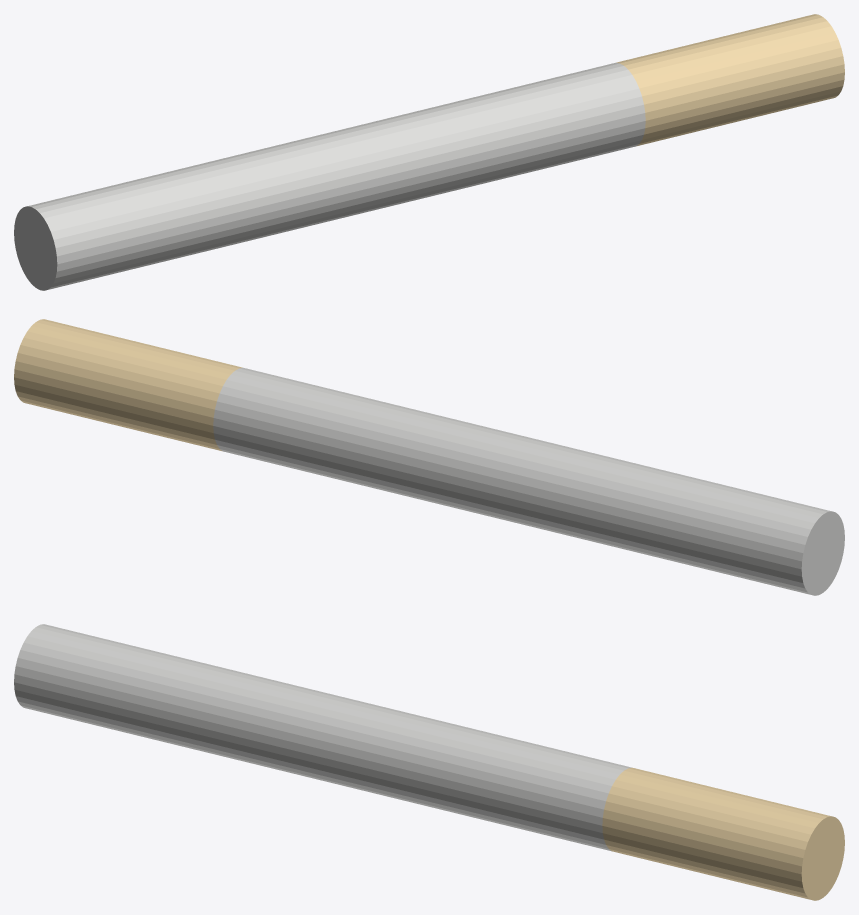
3 views of the same model, one above another, from view 1: azimuth 30°, elevation 25°; view 2: azimuth 150°, elevation 25°; view 3: azimuth 330°, elevation 25° (orthographic).
Parts seen in each view (by area): view 1: g0, g1; view 2: g0, g1; view 3: g0, g1.
Boxes of the visible parts, <box> form: g0: <box>14,62,645,290</box>; g1: <box>616,14,844,146</box>; g0: <box>213,367,844,595</box>; g1: <box>14,319,242,451</box>; g0: <box>14,624,631,851</box>; g1: <box>602,767,844,900</box>.
Bounding box in the file's own units: 0.083 × 0.0079 × 0.0079.
